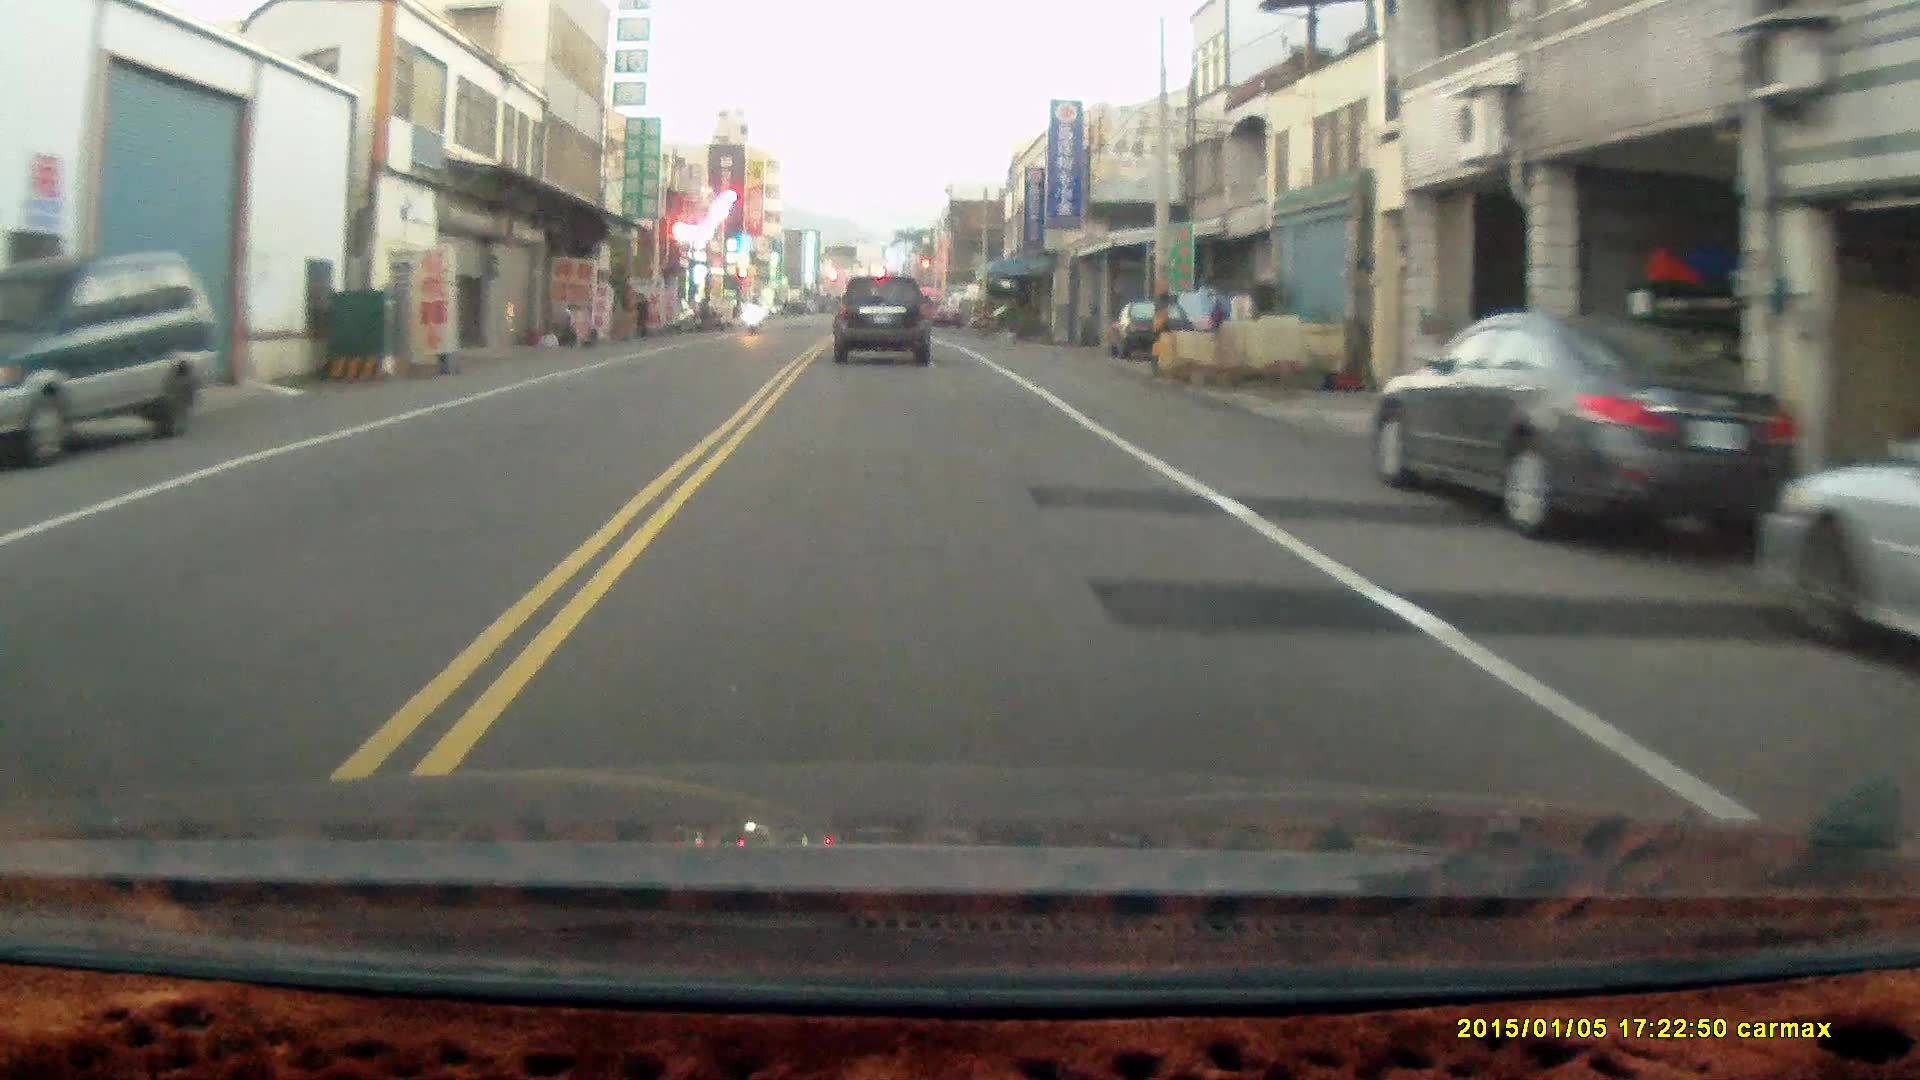pedestrian: (631, 290, 651, 340)
vehicle: (1371, 311, 1804, 557), (1, 250, 219, 461), (1756, 404, 1920, 683), (833, 274, 933, 368), (1108, 299, 1197, 358)
